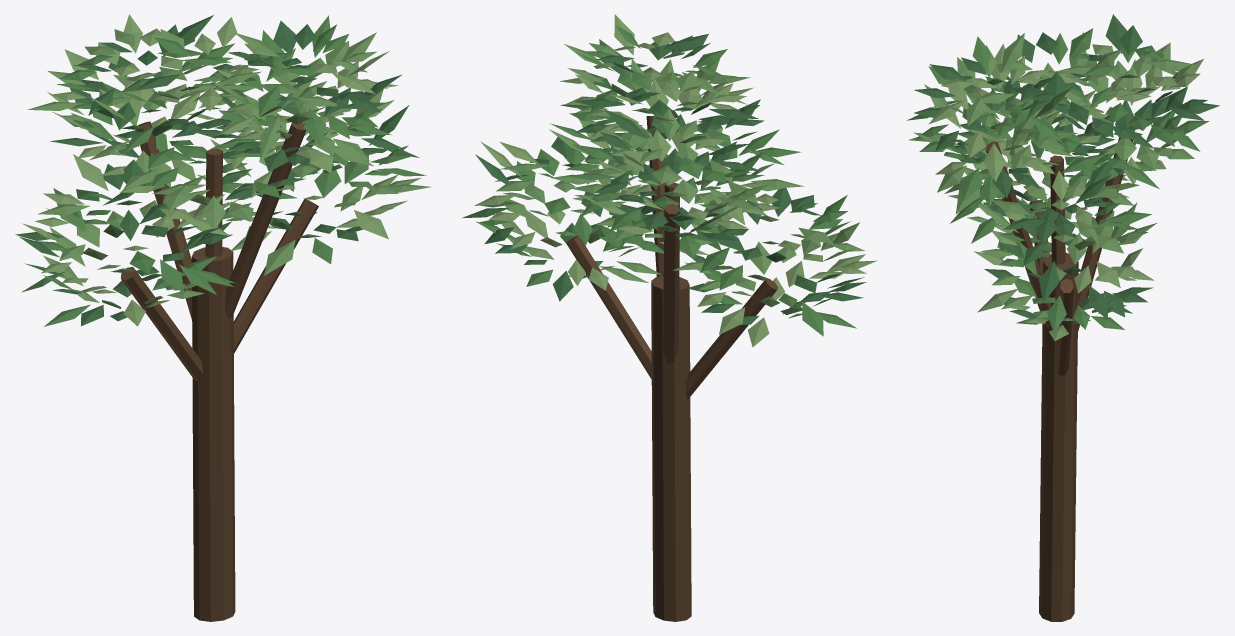
The model's file is city_tree.glb.
The picture shows the model from 3 angles, left to right: view 1: azimuth 30°, elevation 25°; view 2: azimuth 150°, elevation 25°; view 3: azimuth 270°, elevation 25°; orthographic projection. The views are drawn at different scales.
Visible parts, largest first — view 1: city_tree; view 2: city_tree; view 3: city_tree.
Part boxes in pixels (x1,y1,x2,y2): city_tree: (15, 14, 430, 621); city_tree: (461, 14, 877, 621); city_tree: (907, 14, 1219, 621).
Bounding box in the file's own units: 2.37 × 3.27 × 1.6.
